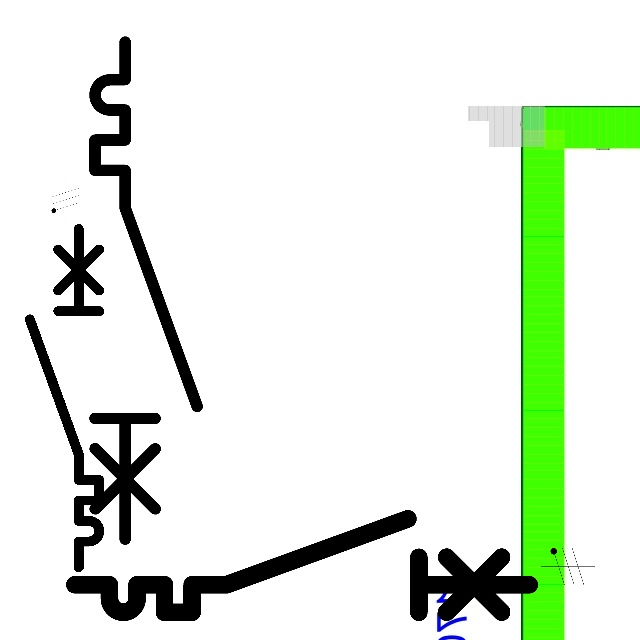interruptor_termomagnetico: (82, 29, 210, 551), (63, 507, 541, 624), (21, 220, 108, 576)
